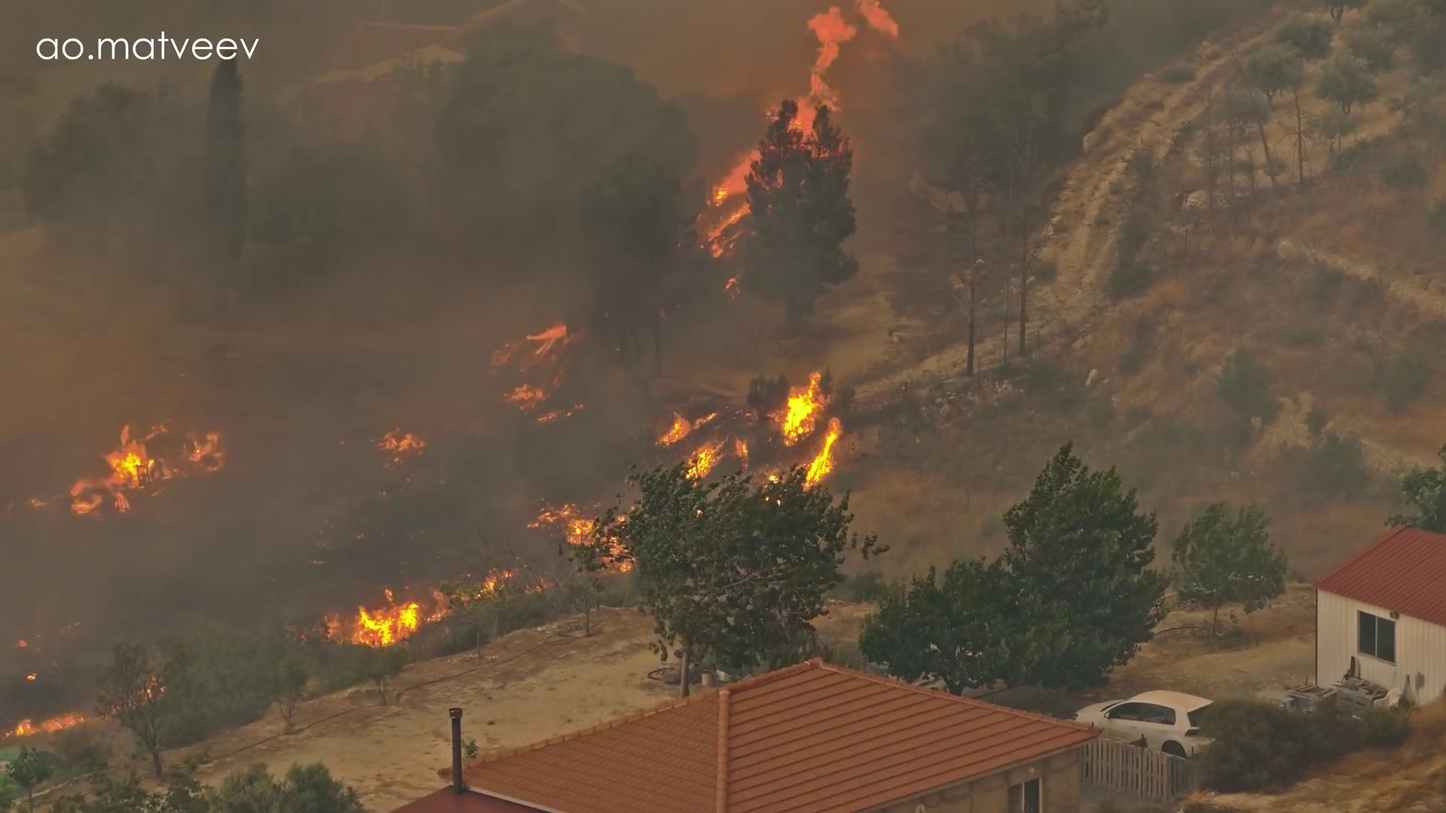forest_fire: (70, 424, 223, 514), (493, 324, 583, 422), (792, 6, 858, 130), (328, 590, 450, 647), (699, 151, 758, 257), (774, 370, 825, 446), (798, 417, 842, 487), (538, 505, 593, 543), (5, 712, 87, 736), (377, 428, 426, 466), (856, 0, 898, 39), (462, 571, 514, 597), (789, 394, 803, 417), (769, 111, 771, 115)
